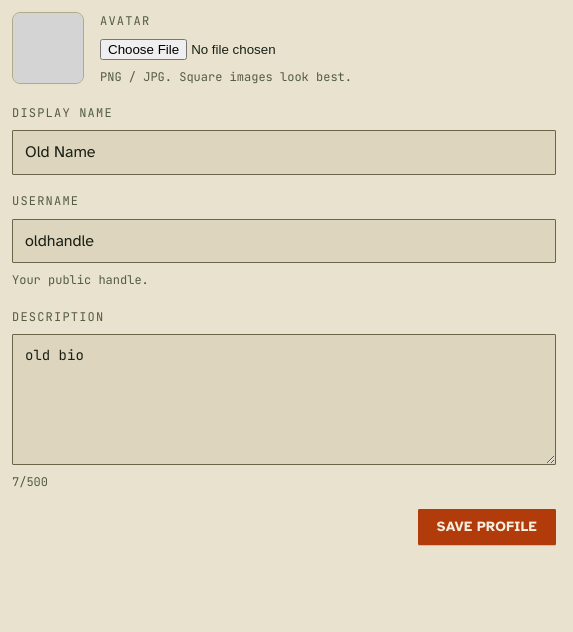
Test: ProfileEditForm › pre-fills from getProfile and saves the edited values
Expected: the field labelled "Username" holds "oldhandle", [12,219,556,263]
Expected: the text box labelled "Description" holds "old bio", [12,334,556,464]
# Edit the fields.
Replace the text in the field labelled "Display name" with "New Name" at {"x": 284, "y": 153}, box [12,130,556,175]
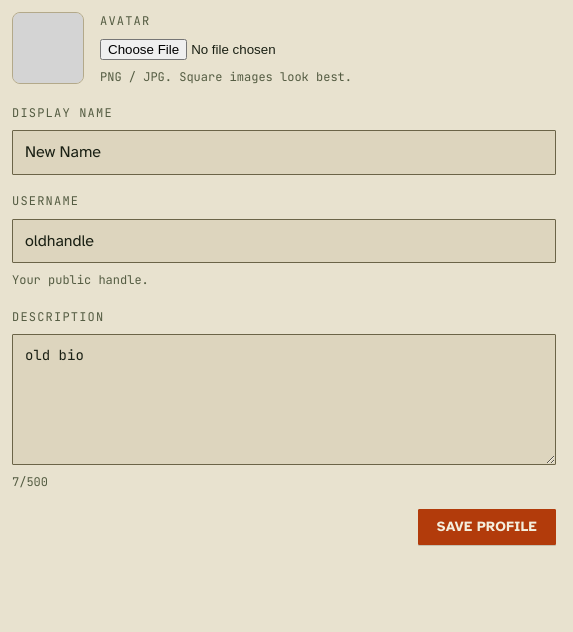
Replace the text in the field labelled "Username" with "newhandle" at {"x": 284, "y": 241}, box [12,219,556,263]
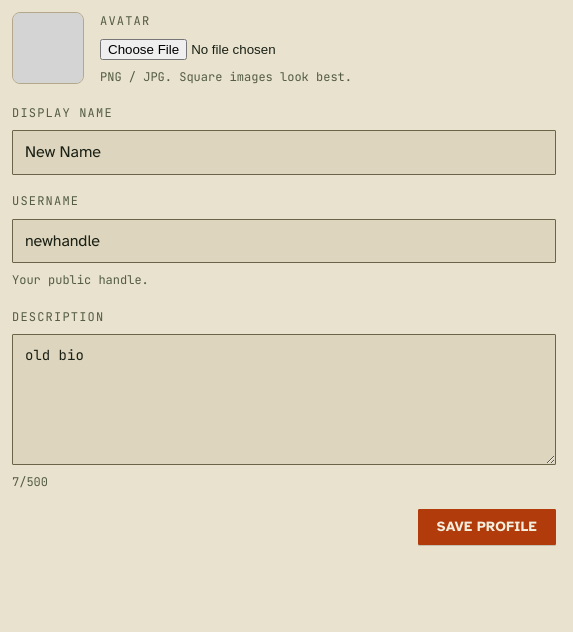
Replace the text in the text box labelled "Description" with "new bio" at {"x": 284, "y": 399}, box [12,334,556,464]
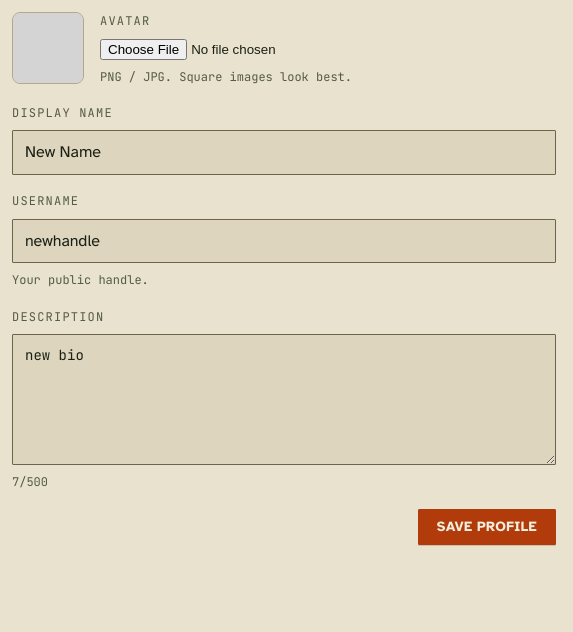
Click the button "Save profile".
click(487, 527)  # box [418,509,556,545]
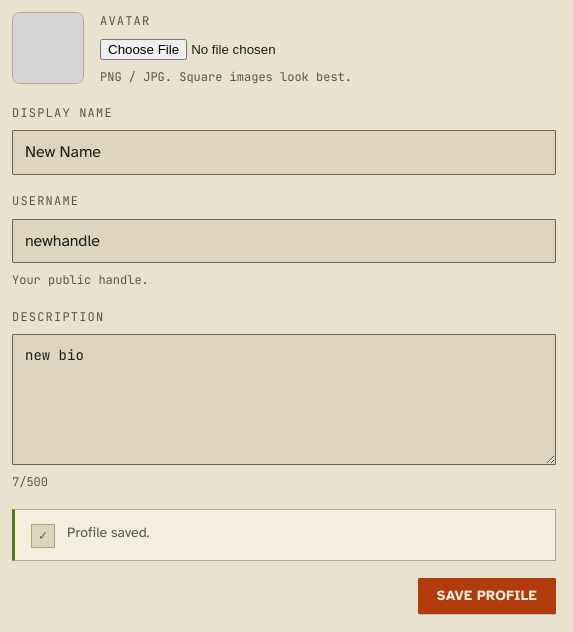
Expected: the text "Profile saved." is shown, [67,524,149,541]
